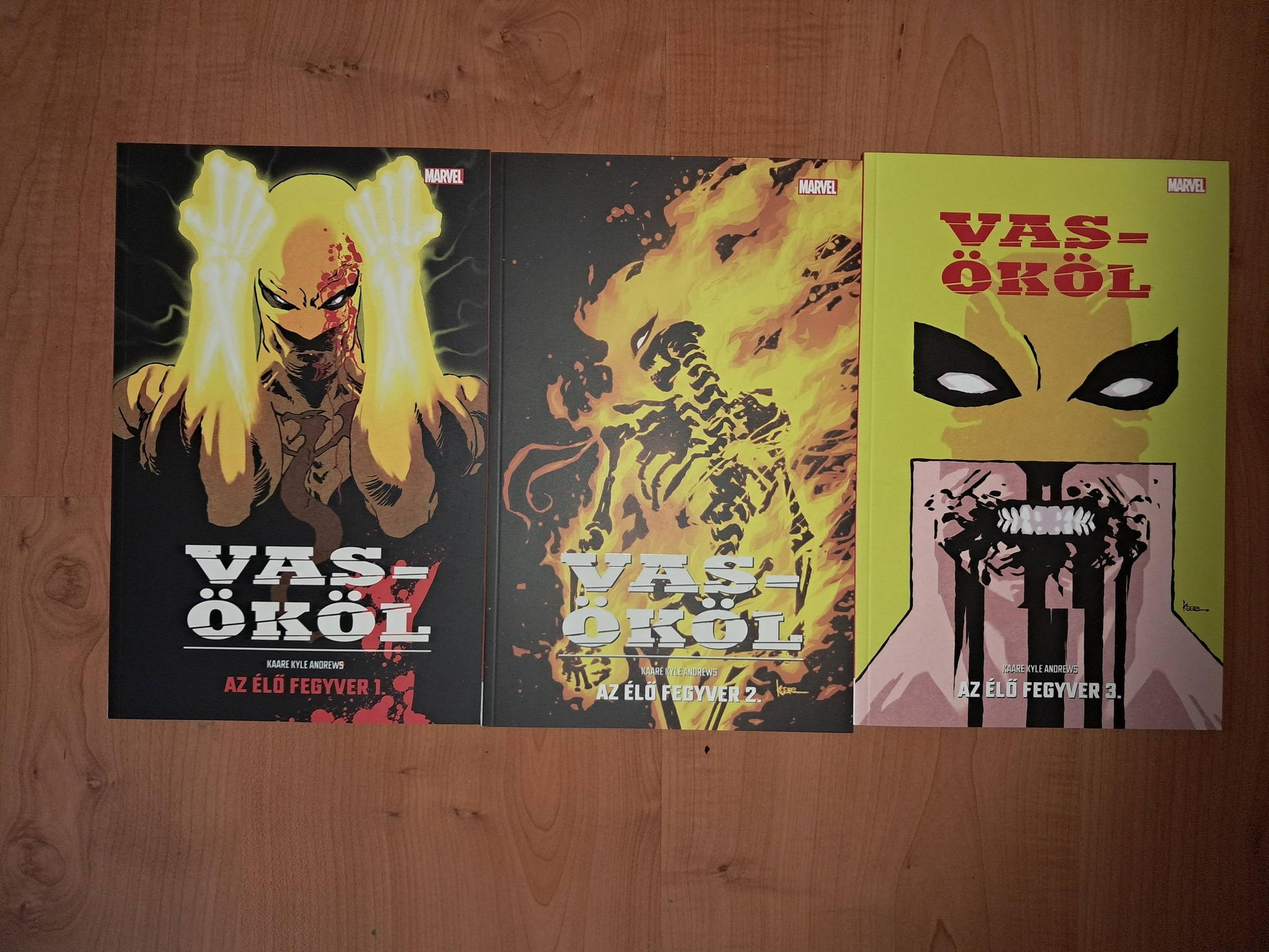comic: (109, 144, 491, 724), (855, 153, 1231, 731), (485, 154, 862, 730)
